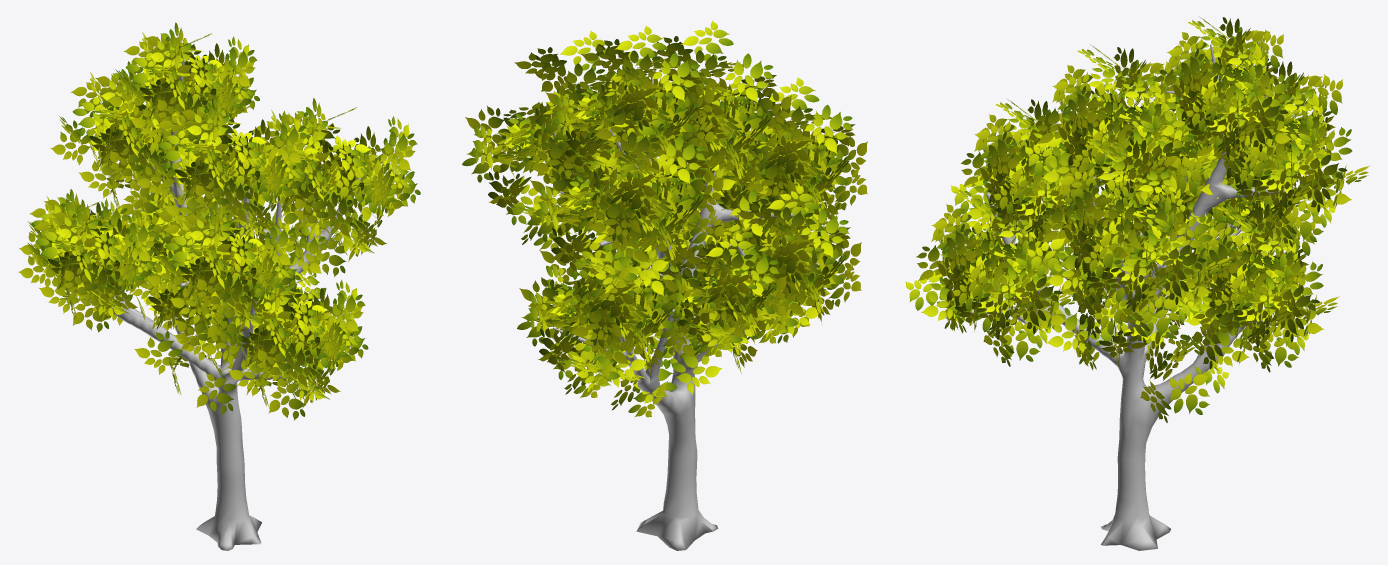
File: Tree3.fbx
3 views of the same model, side by side, from view 1: azimuth 30°, elevation 25°; view 2: azimuth 150°, elevation 25°; view 3: azimuth 270°, elevation 25° (orthographic). The views are drawn at different scales.
Visible parts, largest first — view 1: Plane.3259, Plane; view 2: Plane.3259, Plane; view 3: Plane.3259, Plane.
Boxes of the visible parts, x1,y1,x2,y2 form: Plane.3259: (18, 22, 420, 420); Plane: (69, 59, 361, 550); Plane.3259: (462, 21, 867, 417); Plane: (553, 70, 819, 550); Plane.3259: (905, 17, 1370, 422); Plane: (971, 44, 1297, 550).
Size of the model in its own units: 5015 by 6259 by 5153.
